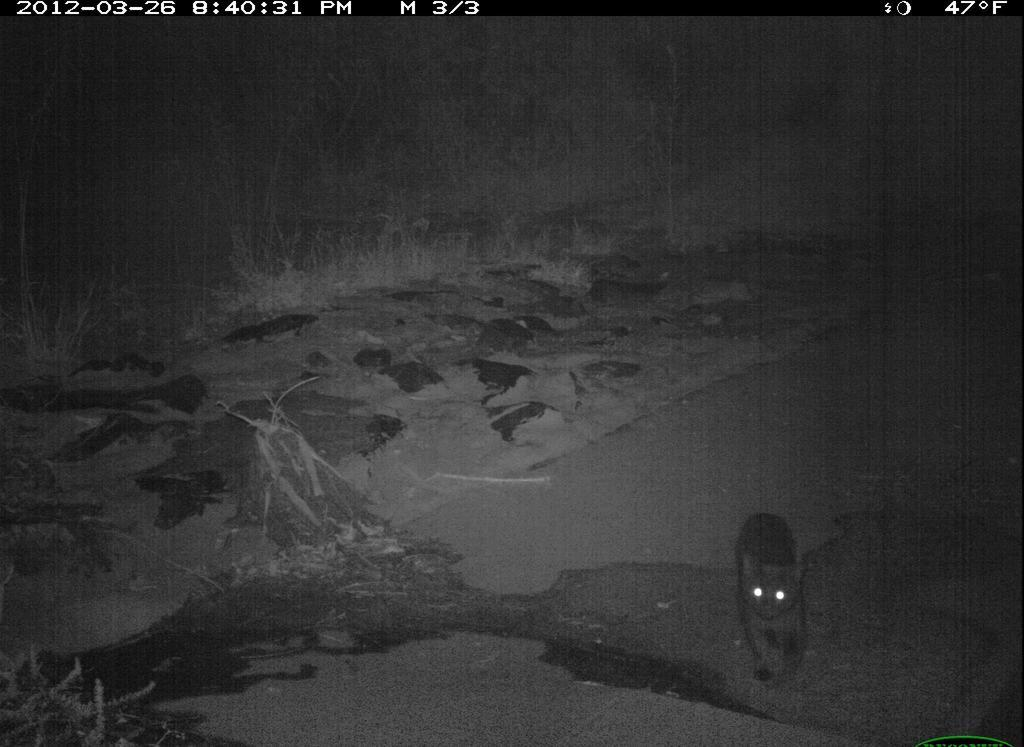cat: (721, 504, 826, 689)
